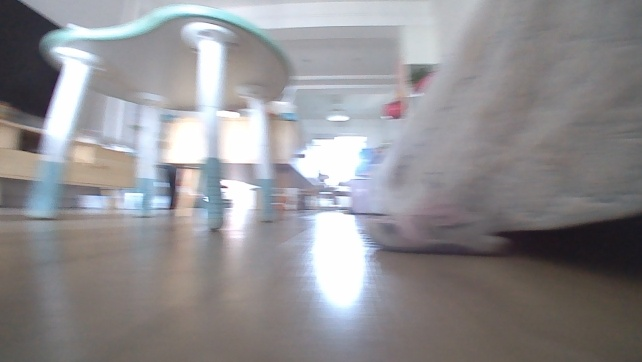TV_stand1: (0, 118, 140, 212)
